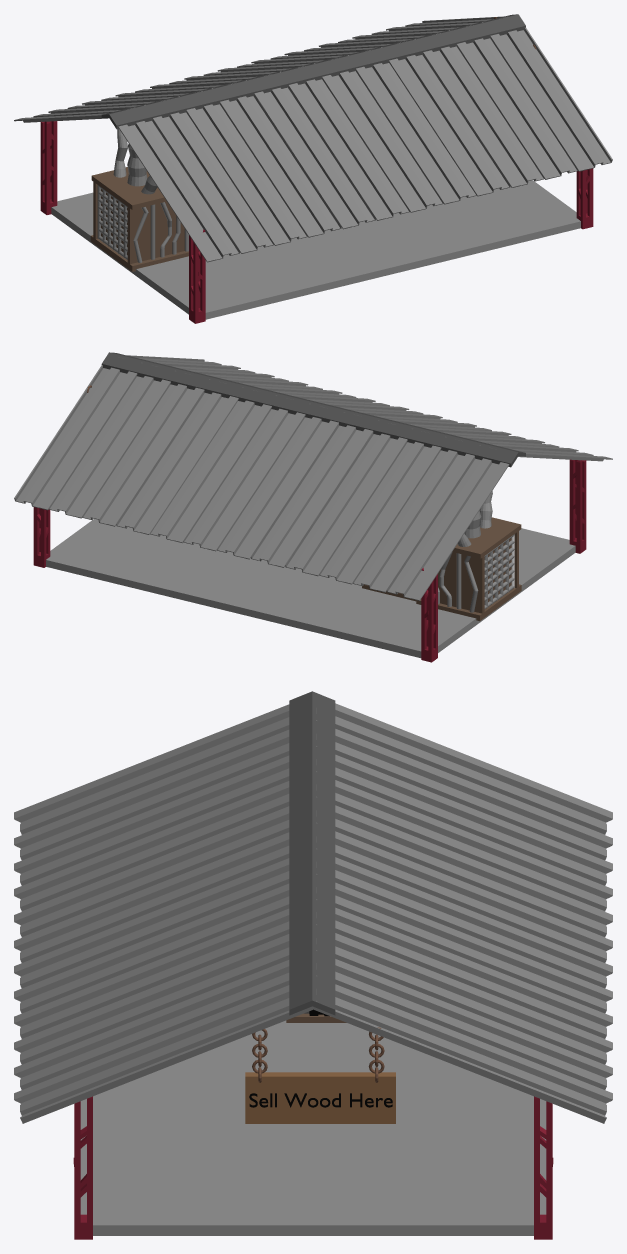
File: SellPlace.fbx
The picture shows the model from 3 angles, top to bottom: view 1: azimuth 30°, elevation 25°; view 2: azimuth 150°, elevation 25°; view 3: azimuth 270°, elevation 25°; orthographic projection. The views are drawn at different scales.
Visible parts, largest first — view 1: Cube, Cube.002, Plane.004, Plane.008, Plane.011, Plane.007, Plane.005, Plane.002, Plane.010, Plane.001, Plane.009, Plane.006 (+6 smaller); view 2: Cube, Cube.002, Plane.004, Plane.008, Plane.011, Plane.007, Plane.005, Plane.010, Plane.002, Plane.001, Plane.009, Plane.006 (+4 smaller); view 3: Cube, Plane.004, Cube.002, Plane.011, Plane, Plane.007, Plane.008, Plane.002, Plane.010, Plane.005, Plane.006, Plane.009 (+5 smaller).
Part boxes in pixels (bbox=[...]): Cube: bbox=[51, 180, 580, 319]; Cube.002: bbox=[101, 14, 525, 129]; Plane.004: bbox=[386, 14, 612, 171]; Plane.008: bbox=[14, 105, 240, 262]; Plane.011: bbox=[115, 80, 341, 237]; Plane.007: bbox=[284, 39, 510, 196]; Plane.005: bbox=[352, 22, 578, 179]; Plane.002: bbox=[217, 55, 443, 212]; Plane.010: bbox=[82, 88, 307, 245]; Plane.001: bbox=[184, 63, 409, 220]; Plane.009: bbox=[48, 96, 273, 253]; Plane.006: bbox=[319, 30, 544, 187]; Cube: bbox=[46, 518, 575, 658]; Cube.002: bbox=[101, 352, 525, 467]; Plane.004: bbox=[14, 354, 240, 510]; Plane.008: bbox=[387, 445, 612, 600]; Plane.011: bbox=[285, 420, 511, 576]; Plane.007: bbox=[116, 379, 342, 534]; Plane.005: bbox=[49, 362, 274, 518]; Plane.010: bbox=[319, 428, 544, 584]; Plane.002: bbox=[183, 395, 409, 551]; Plane.001: bbox=[217, 403, 442, 559]; Plane.009: bbox=[353, 436, 578, 592]; Plane.006: bbox=[82, 370, 308, 526]; Cube: bbox=[80, 1020, 546, 1235]; Plane.004: bbox=[14, 984, 612, 1123]; Cube.002: bbox=[289, 691, 335, 1015]; Plane.011: bbox=[14, 780, 612, 911]; Plane: bbox=[14, 806, 612, 937]; Plane.007: bbox=[14, 907, 612, 1039]; Plane.008: bbox=[14, 703, 612, 834]; Plane.002: bbox=[14, 857, 612, 988]; Plane.010: bbox=[14, 754, 612, 885]; Plane.005: bbox=[14, 959, 612, 1089]; Plane.006: bbox=[14, 933, 612, 1064]; Plane.009: bbox=[14, 729, 612, 860].
Size of the model in its own units: 1890 by 681 by 1535.
